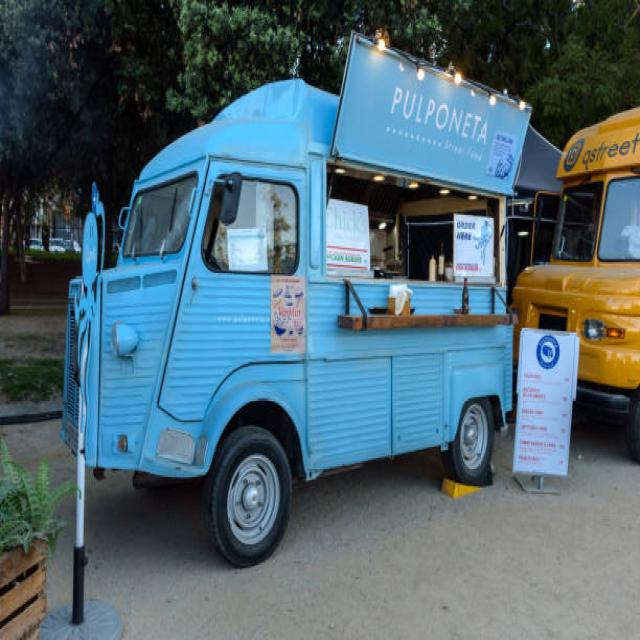Emperan: (56, 30, 592, 571)
